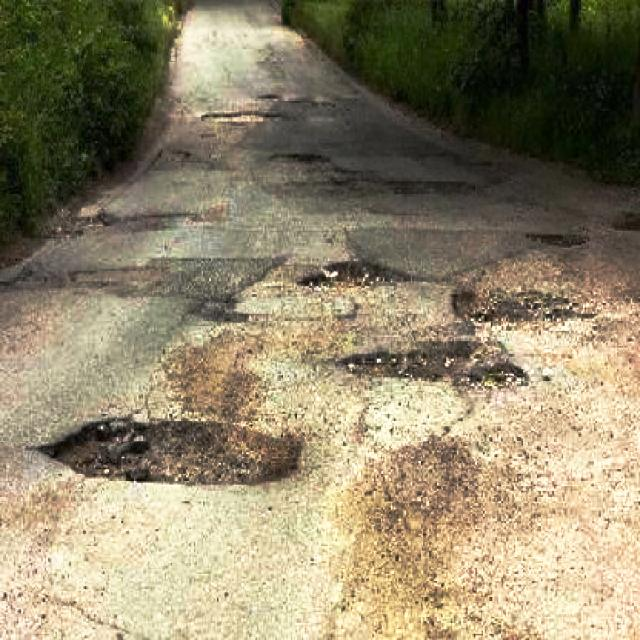pothole: (35, 414, 312, 488), (335, 346, 528, 394), (446, 286, 585, 326), (300, 256, 417, 296), (326, 174, 482, 197), (195, 286, 248, 326), (535, 226, 597, 252), (198, 109, 297, 125), (604, 201, 640, 235), (271, 146, 332, 166)
